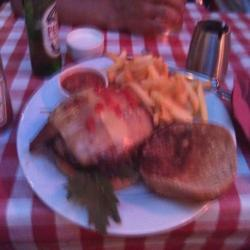bread: (142, 121, 240, 208)
burger: (48, 86, 150, 192)
fries: (114, 51, 212, 125)
ketchup: (55, 62, 107, 98)
